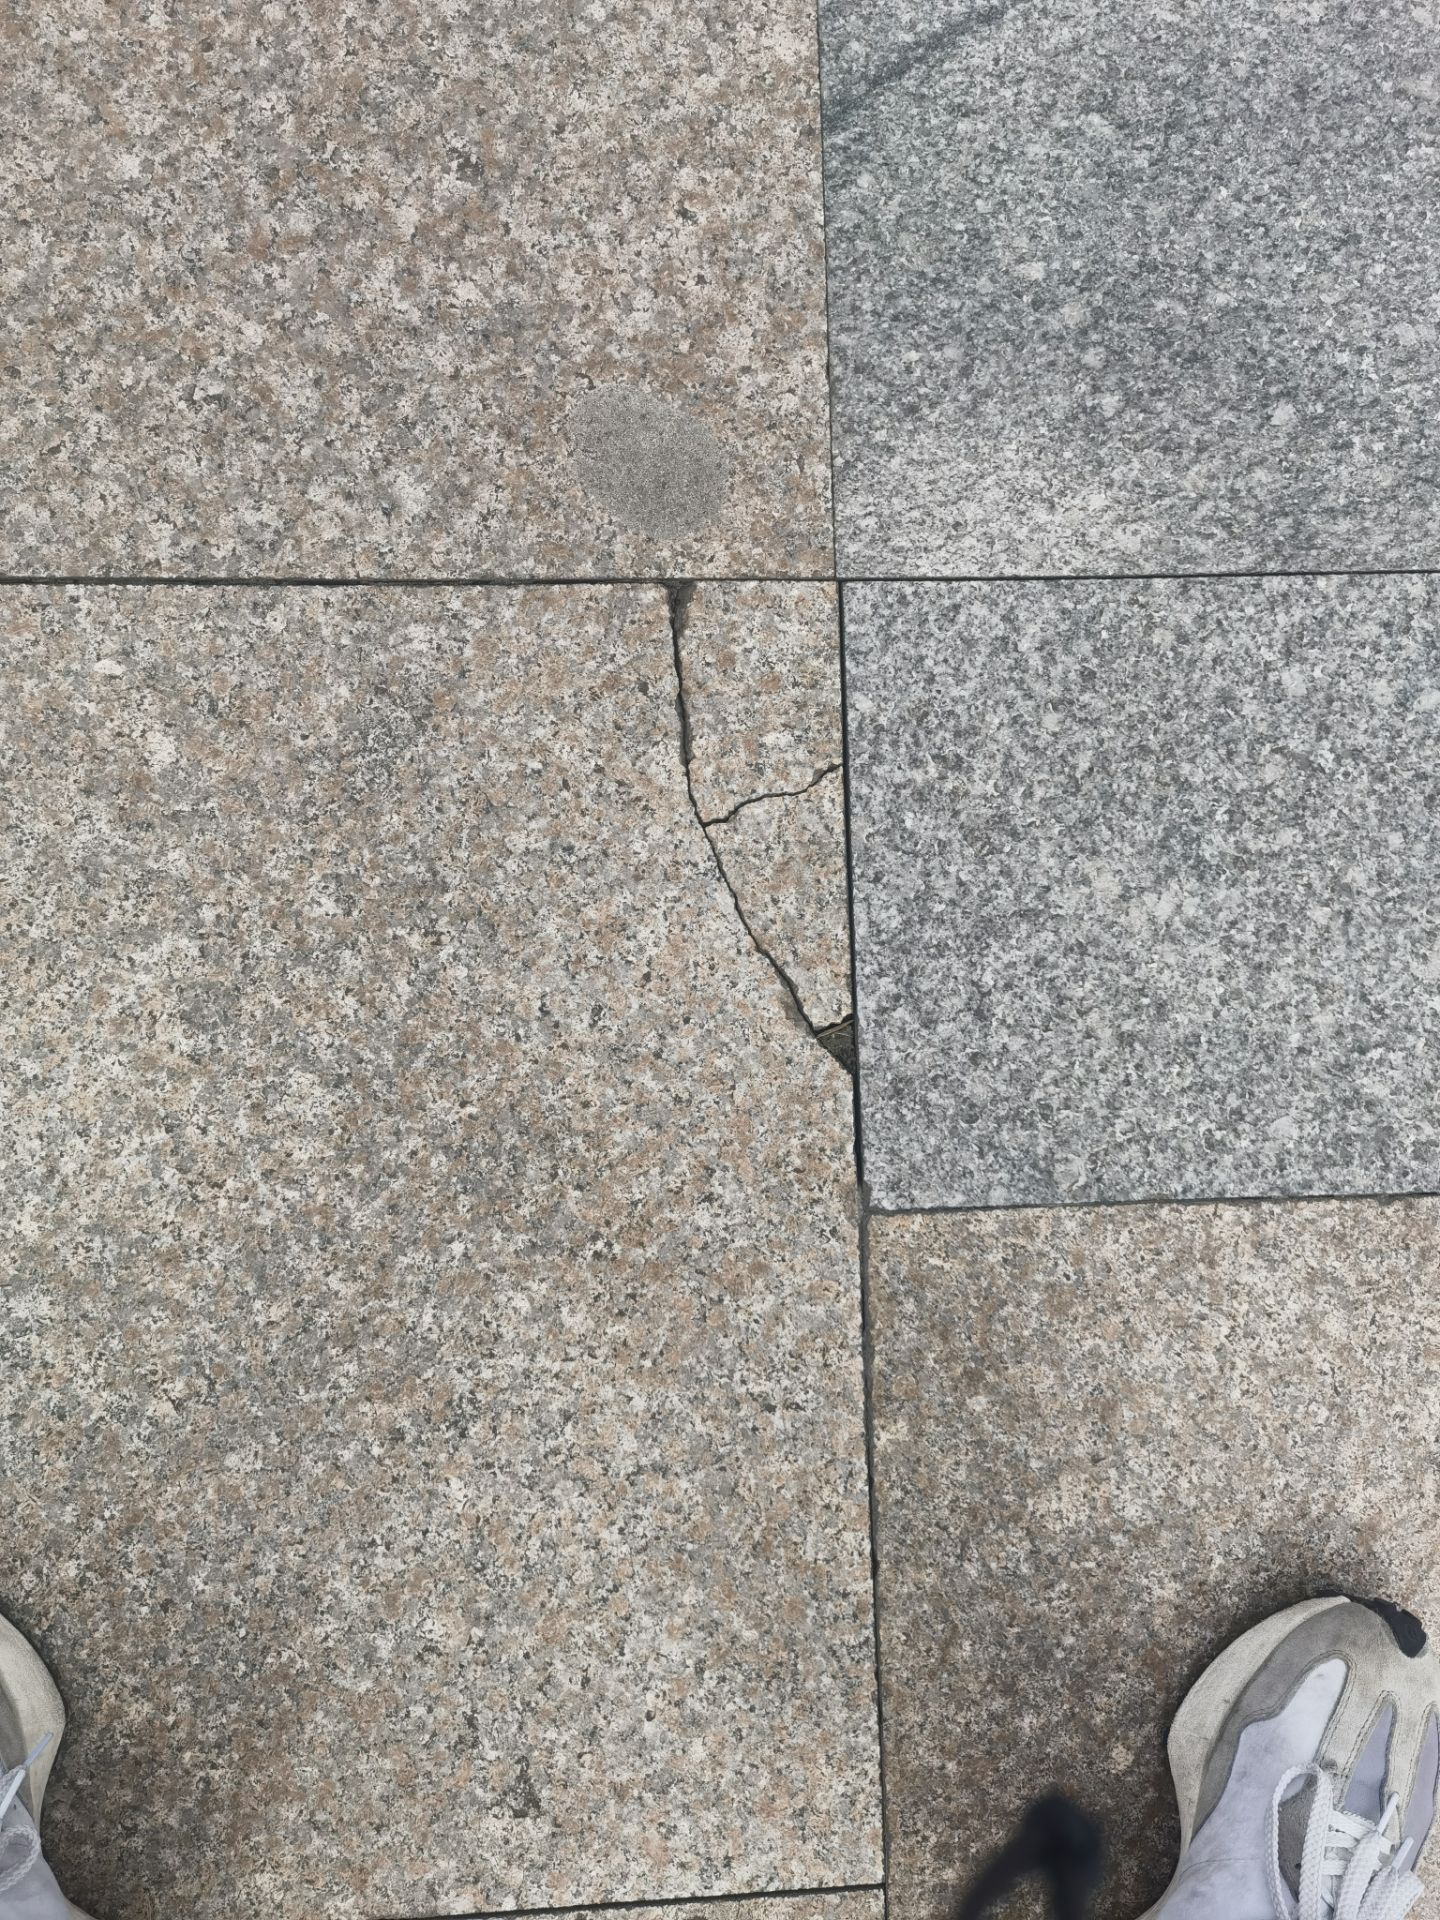TILE: (657, 582, 870, 1090)
